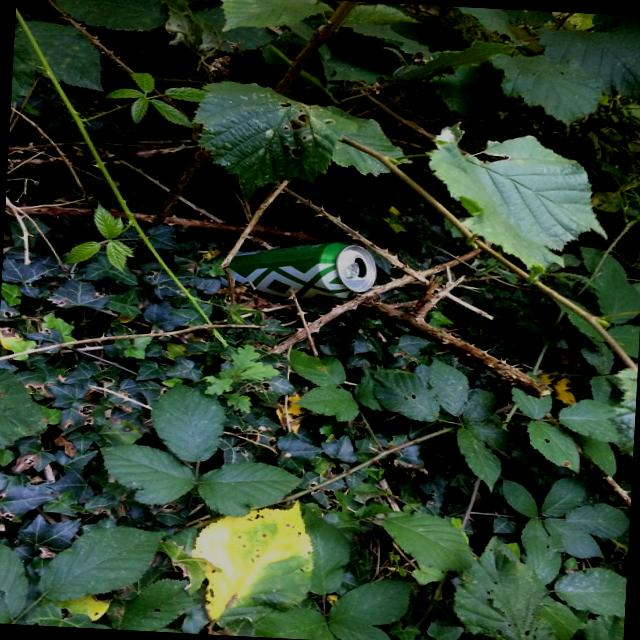Recycle: (216, 238, 381, 306)
